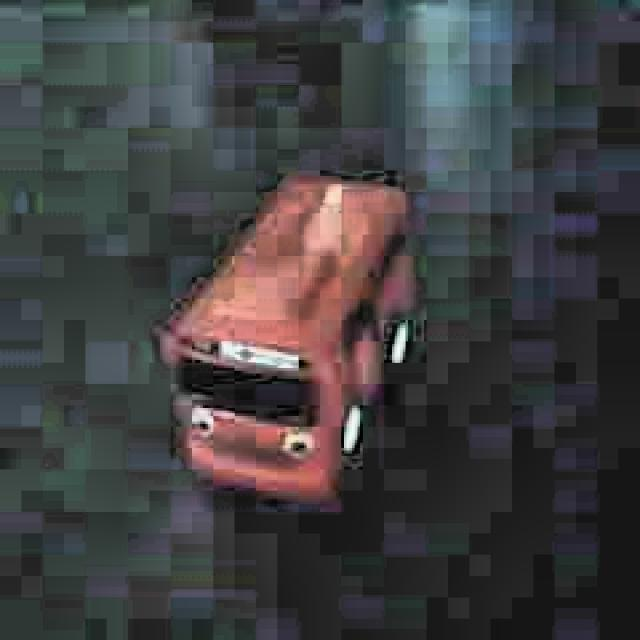bus: (158, 160, 420, 523)
